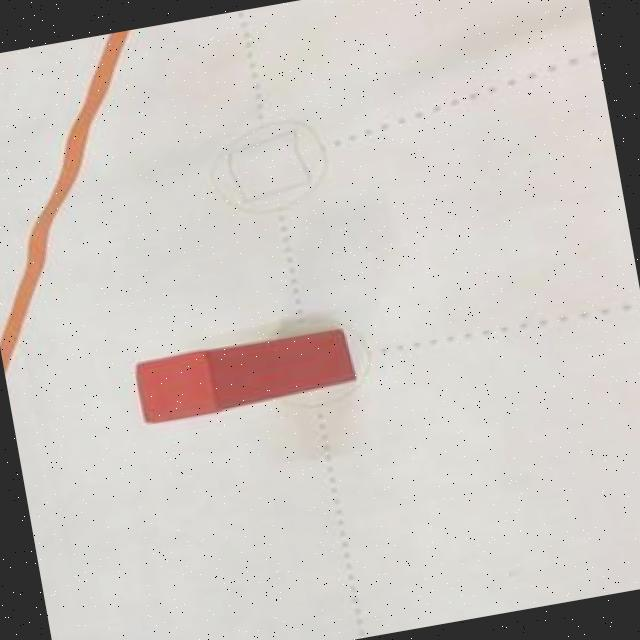redbox: (128, 324, 359, 430)
